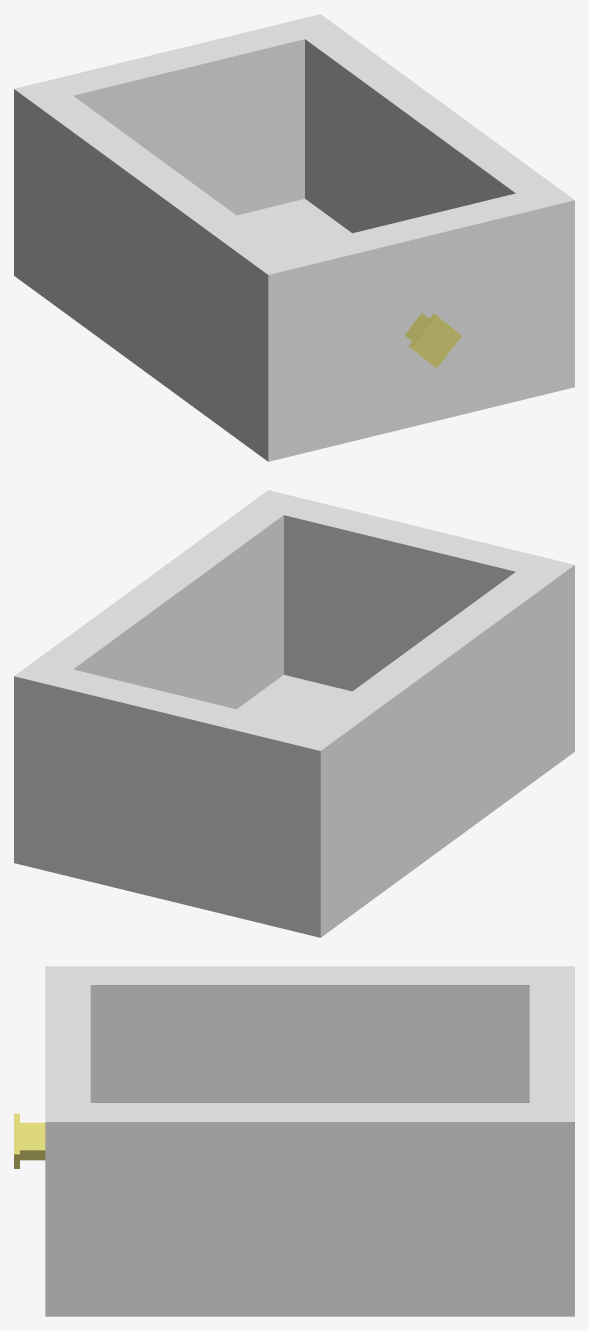
The model's file is Itr_Bed_Bunk2_Drawer1_04.FBX.
The picture shows the model from 3 angles, top to bottom: view 1: azimuth 30°, elevation 25°; view 2: azimuth 150°, elevation 25°; view 3: azimuth 270°, elevation 25°; orthographic projection. The views are drawn at different scales.
Visible parts, largest first — view 1: Itr_Bed_Bunk2_Drawer1_04; view 2: Itr_Bed_Bunk2_Drawer1_04; view 3: Itr_Bed_Bunk2_Drawer1_04.
Boxes of the visible parts, x1,y1,x2,y2 form: Itr_Bed_Bunk2_Drawer1_04: (14, 14, 574, 461); Itr_Bed_Bunk2_Drawer1_04: (14, 490, 574, 937); Itr_Bed_Bunk2_Drawer1_04: (14, 966, 574, 1316).
Bounding box in the file's own units: 27.33 × 15.93 × 41.58.
